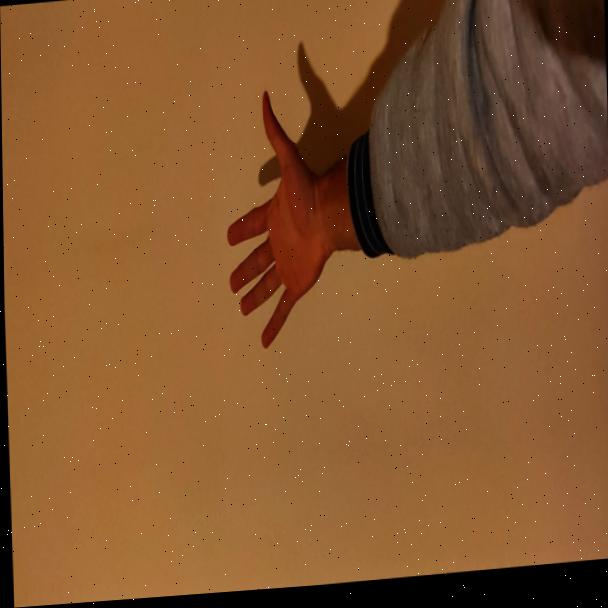five: (222, 105, 330, 371)
